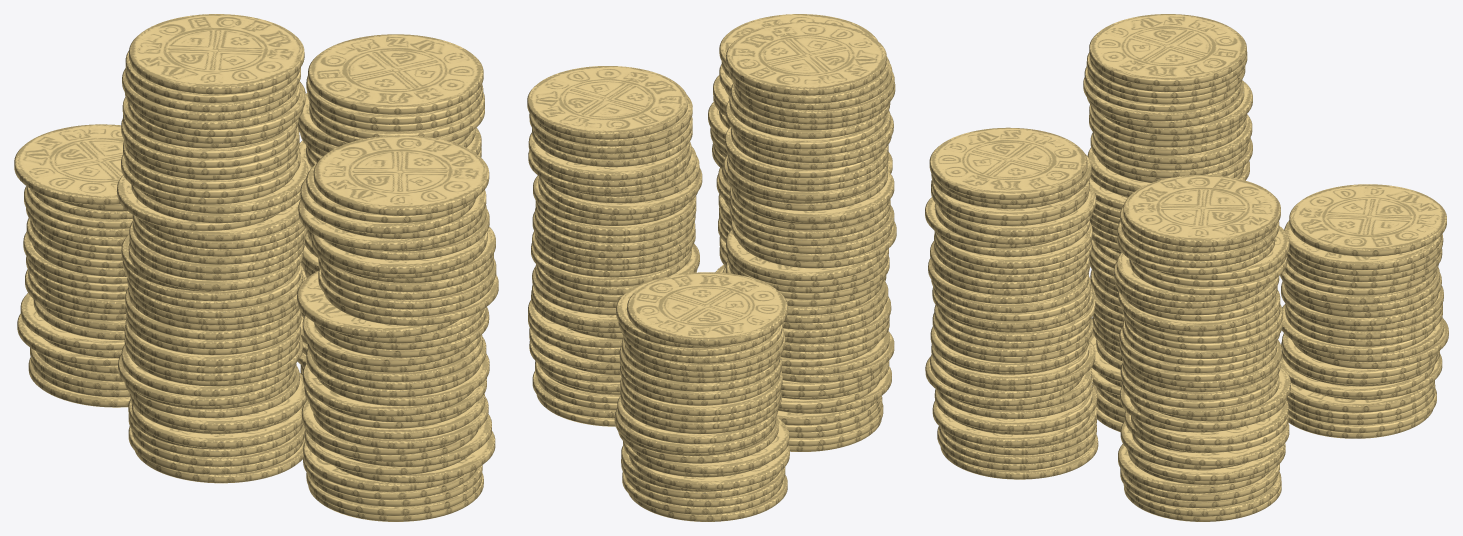
The model's file is pile_of_coins_4(1).glb.
The picture shows the model from 3 angles, left to right: view 1: azimuth 30°, elevation 25°; view 2: azimuth 150°, elevation 25°; view 3: azimuth 270°, elevation 25°; orthographic projection. The views are drawn at different scales.
Parts seen in each view (by area): view 1: CoinStack01.002; view 2: CoinStack01.002; view 3: CoinStack01.002.
Part boxes in pixels (x1=…): CoinStack01.002: x1=14, y1=14, x2=498, y2=521; CoinStack01.002: x1=527, y1=14, x2=896, y2=521; CoinStack01.002: x1=925, y1=14, x2=1448, y2=521.
Bounding box in the file's own units: 0.1295 × 0.1377 × 0.1814.
1 material, 1 textured.
